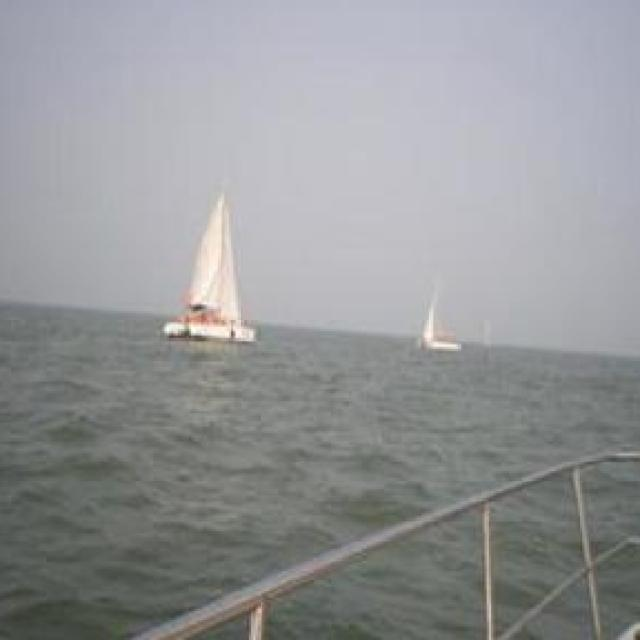sailboat: (156, 192, 261, 346), (404, 281, 460, 365)
